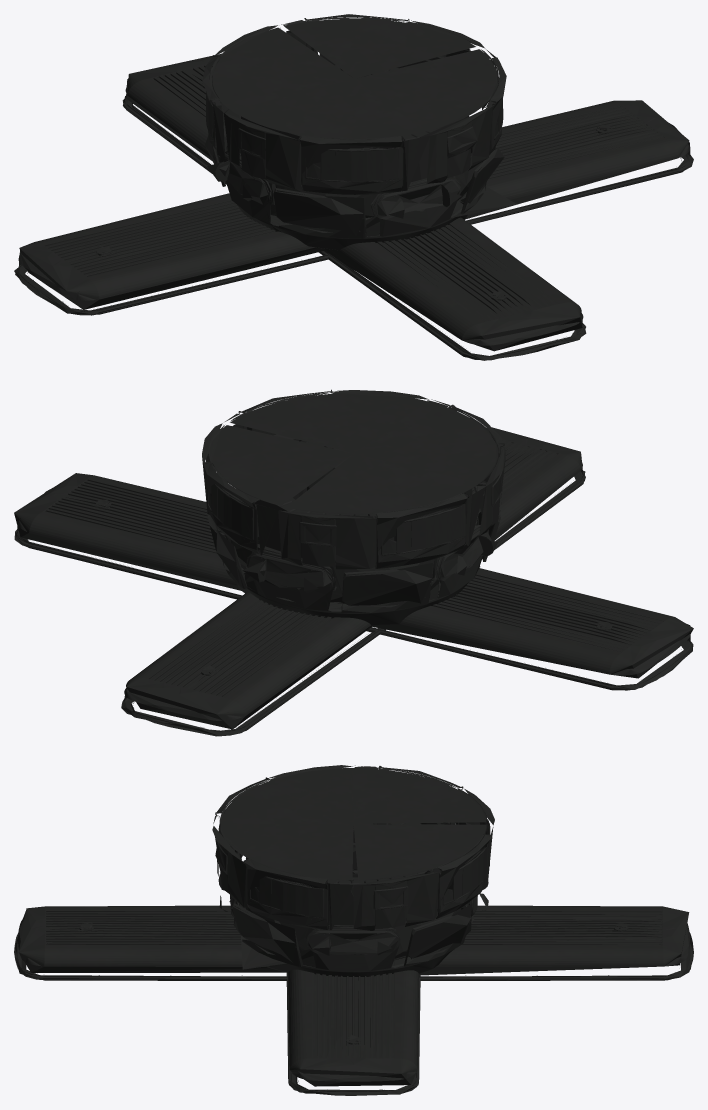
File: lighting_taskLight_foldableCeiling_a01.glb
3 renders of one model, top to bottom at view 1: azimuth 30°, elevation 25°; view 2: azimuth 150°, elevation 25°; view 3: azimuth 270°, elevation 25°, orthographic. The views are drawn at different scales.
Parts seen in each view (by area): view 1: geometry_0; view 2: geometry_0; view 3: geometry_0.
Part boxes in pixels (left/top/right/bottom): geometry_0: left=14, top=14, right=693, bottom=360; geometry_0: left=14, top=389, right=693, bottom=736; geometry_0: left=14, top=765, right=693, bottom=1095.
Size of the model in its own units: 0.4199 by 0.09 by 0.42.
1 material, 1 textured.
